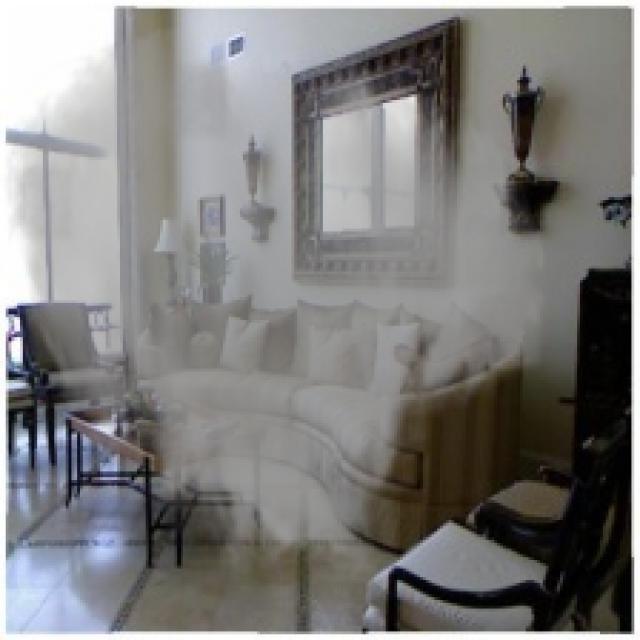Smoke: (0, 22, 552, 589)
